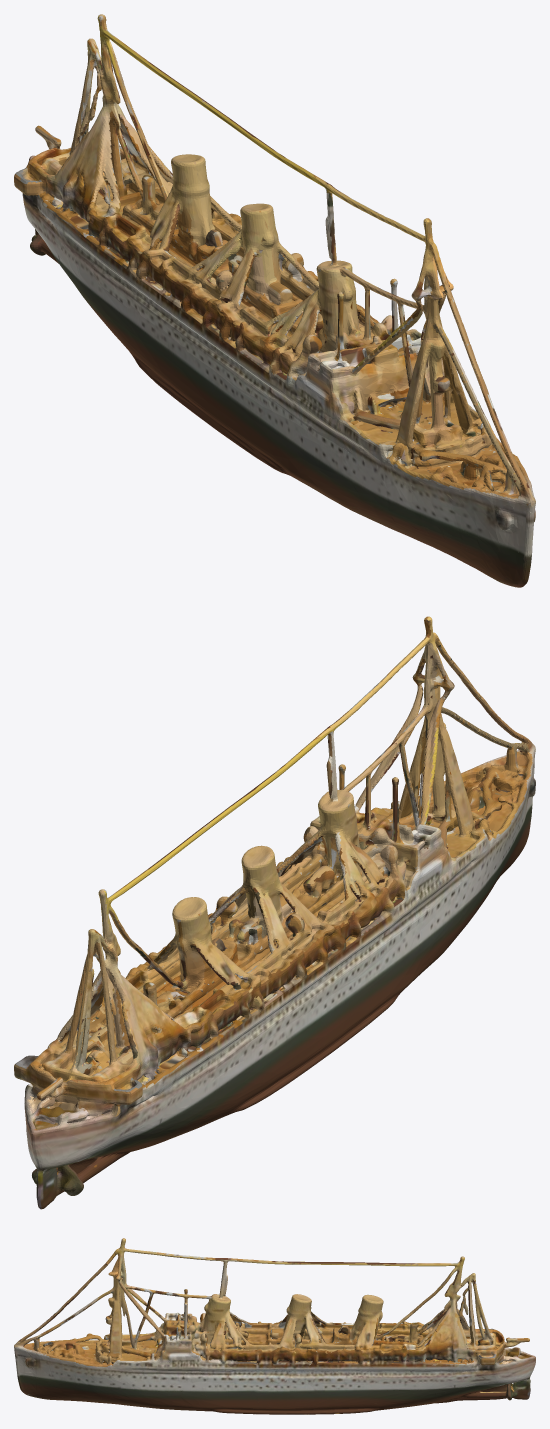
File: empress_hunyuan3d_web.glb
3 renders of one model, top to bottom at view 1: azimuth 30°, elevation 25°; view 2: azimuth 150°, elevation 25°; view 3: azimuth 270°, elevation 25°, orthographic. The views are drawn at different scales.
Visible parts, largest first — view 1: tmptrf476vw.ply; view 2: tmptrf476vw.ply; view 3: tmptrf476vw.ply.
Boxes of the visible parts, <box> form: tmptrf476vw.ply: <box>14,14,535,587</box>; tmptrf476vw.ply: <box>14,616,535,1209</box>; tmptrf476vw.ply: <box>14,1238,535,1414</box>.
Size of the model in its own units: 0.2855 by 0.694 by 1.99.
Materials: 1 (1 with a texture image).
